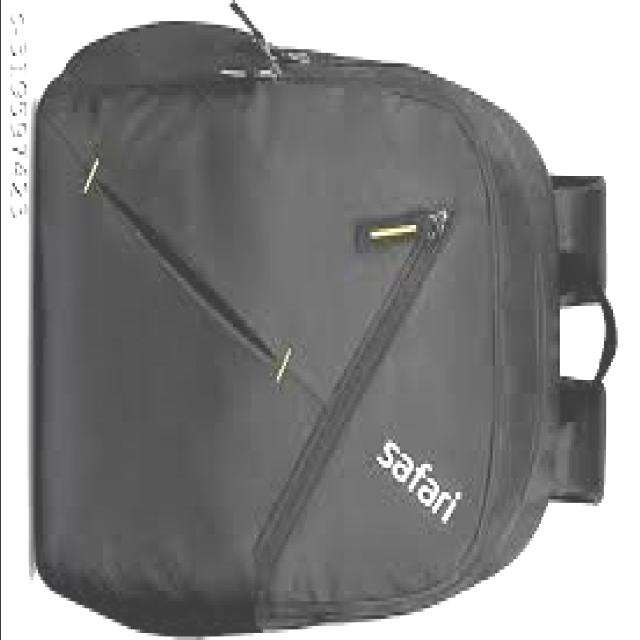backpack: (34, 1, 621, 637)
